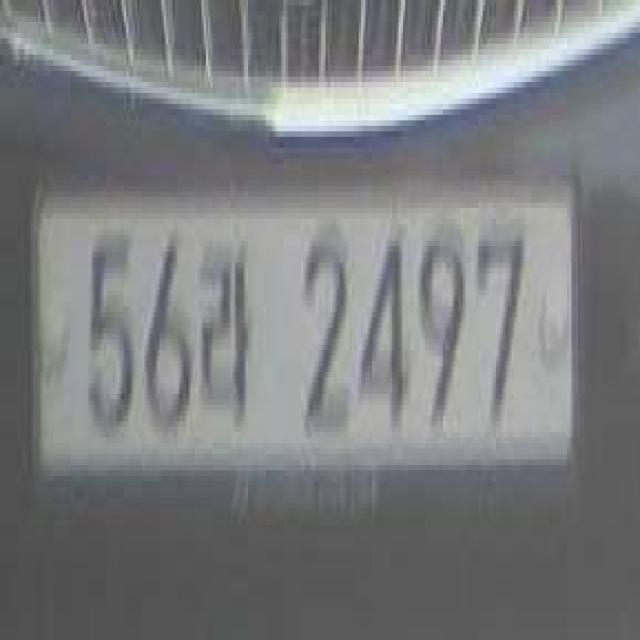illegal_plate: (33, 151, 577, 522)
